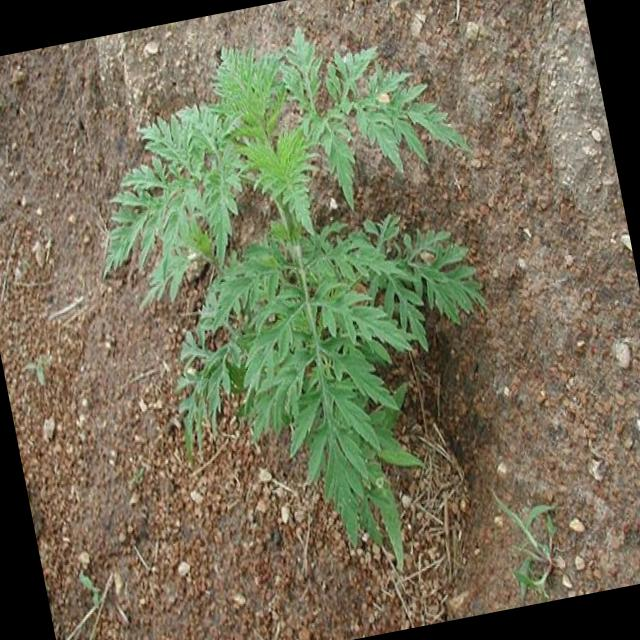ambrosia: (148, 36, 480, 500)
